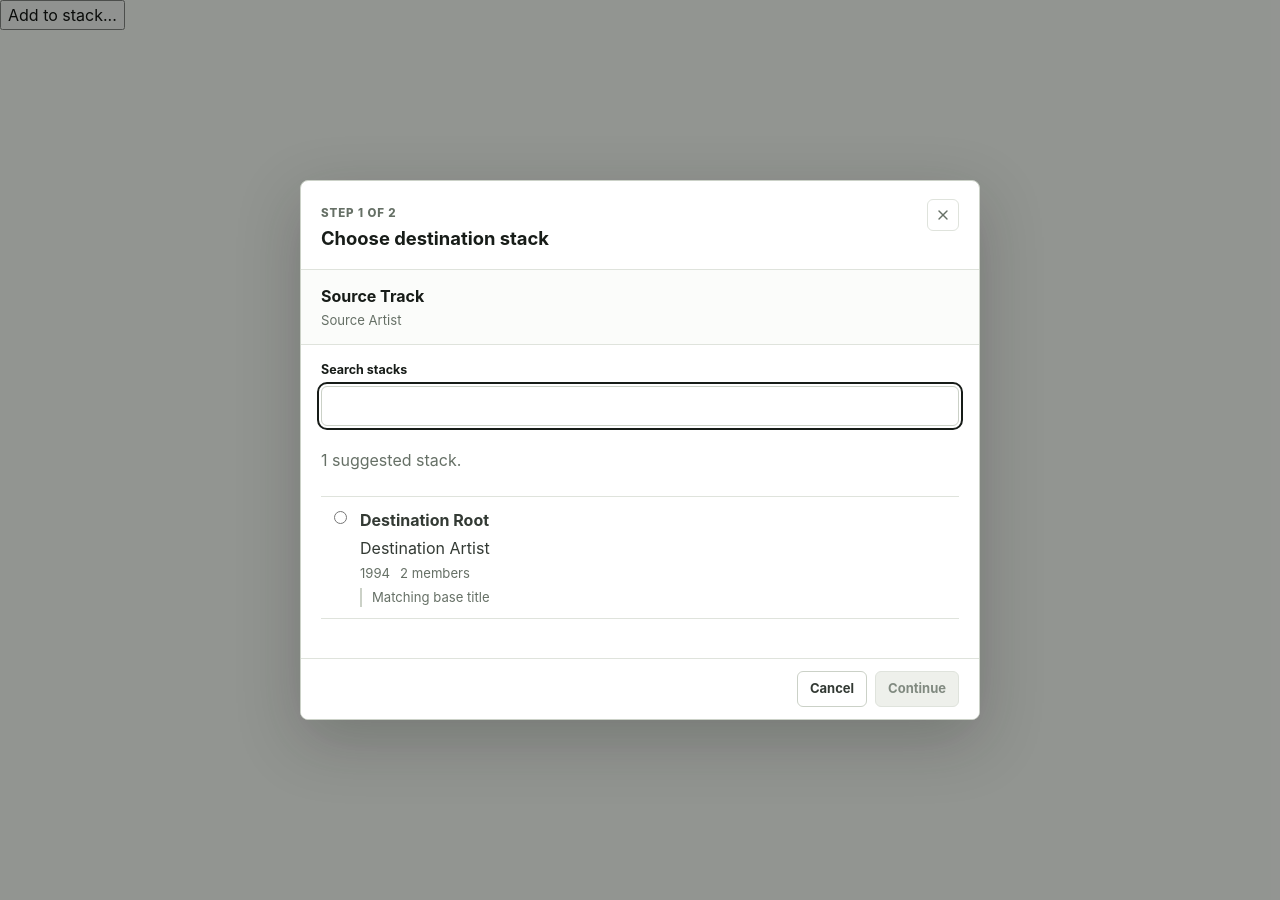
it: TrackStackPickerDialog submission › shows complete summaries on step two with no default relation
Type "bass" into the search field labelled "Search stacks" at (640, 406), box [321,386,959,426]
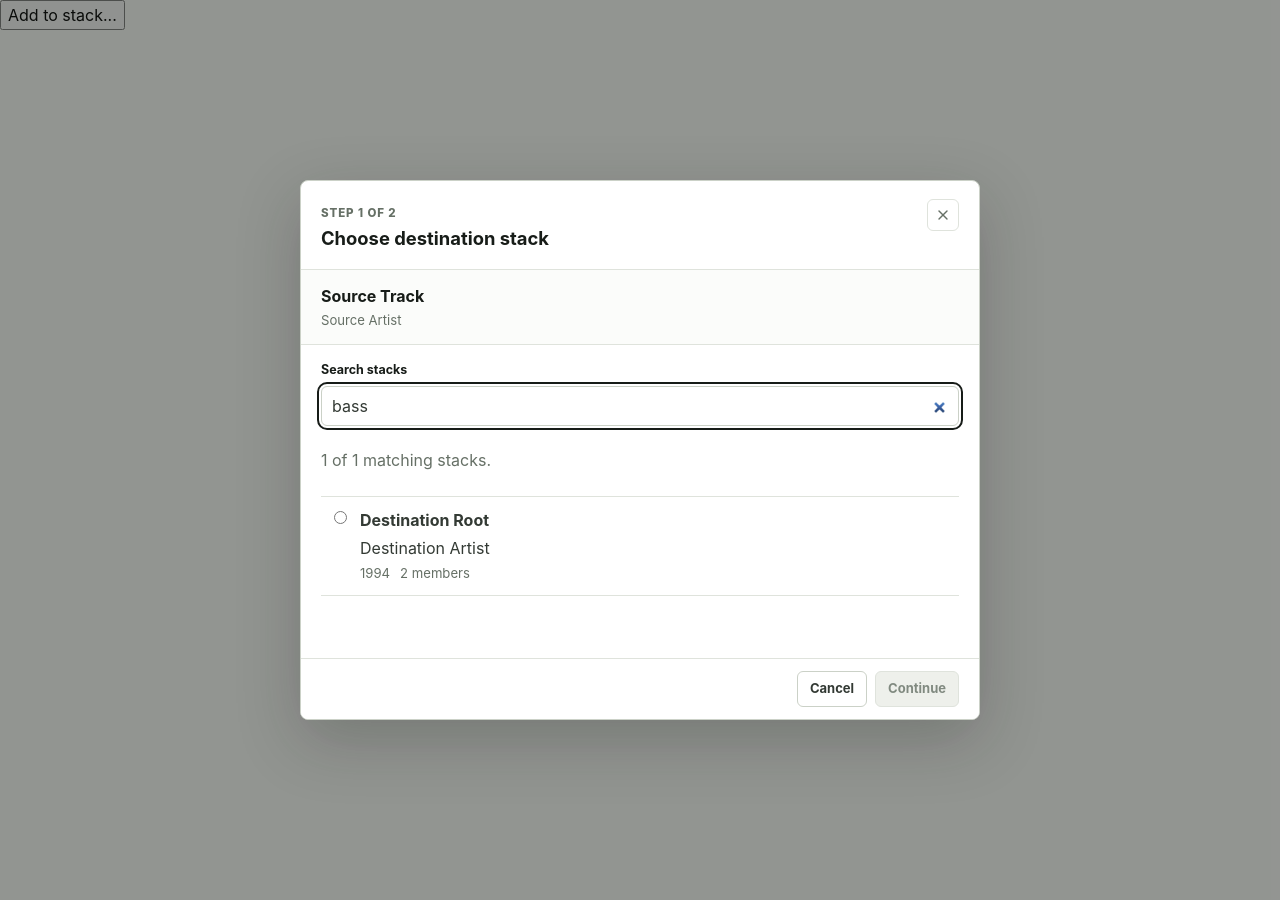
Click the radio button labelled "Destination Root Destination Artist 1994 2 members" at (340, 518), box [334,511,347,524]
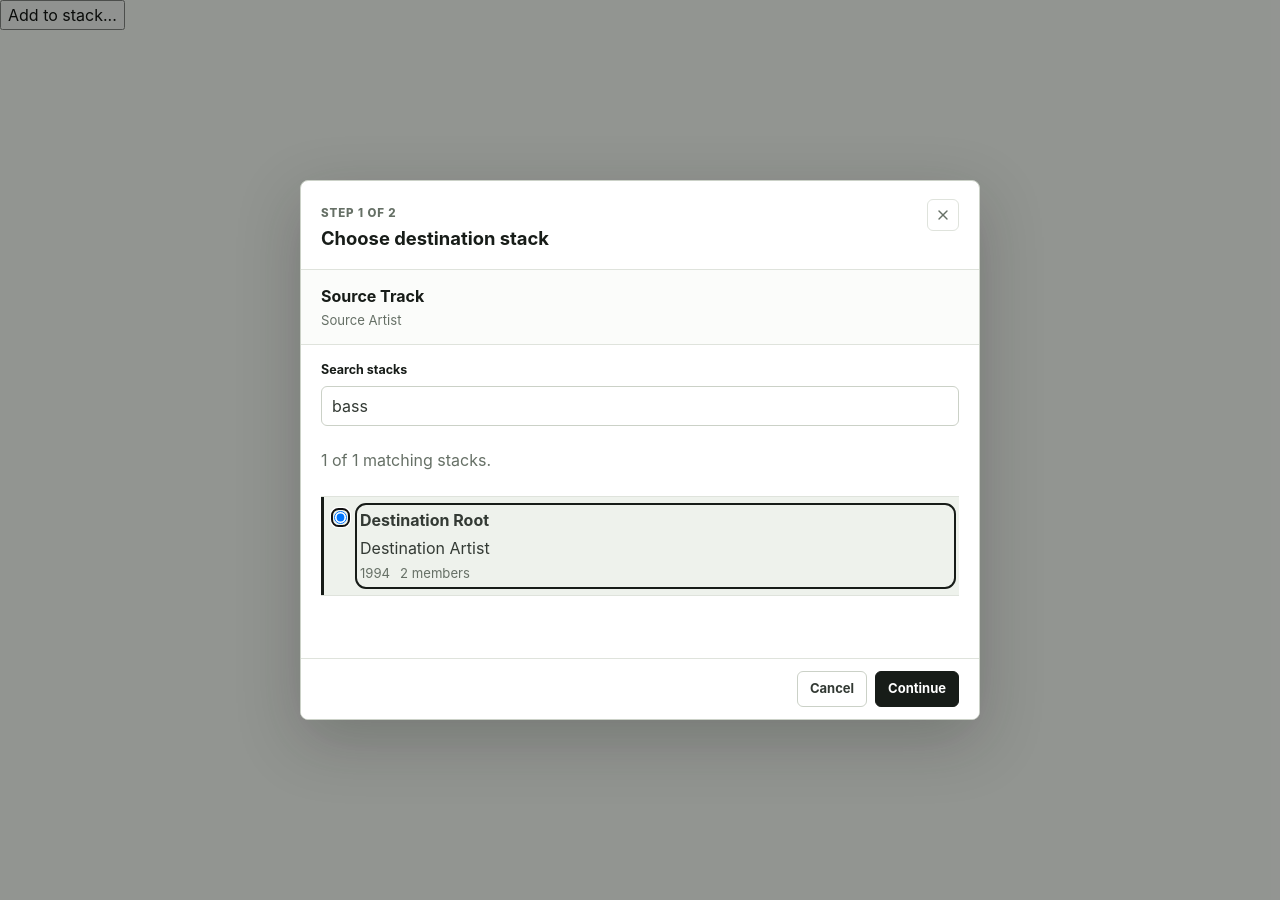
Click the button "Continue" at (917, 689), box [875,671,959,707]
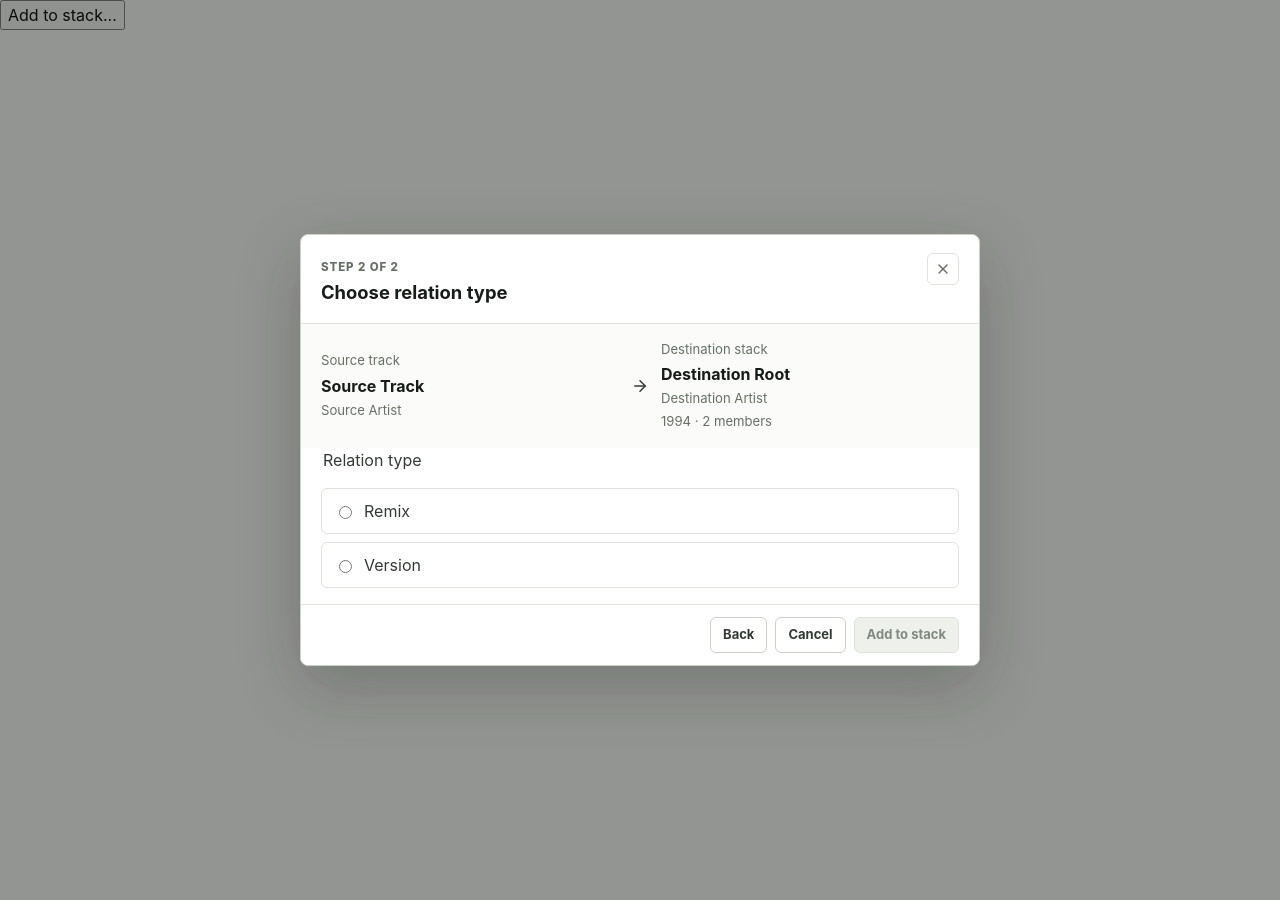
Result: the text "Step 2 of 2" is shown at [321,260,399,274]
Result: the text "1994 · 2 members" is shown at [661,413,772,429]
Result: the radio button labelled "Remix" is not checked at [339,506,352,519]
